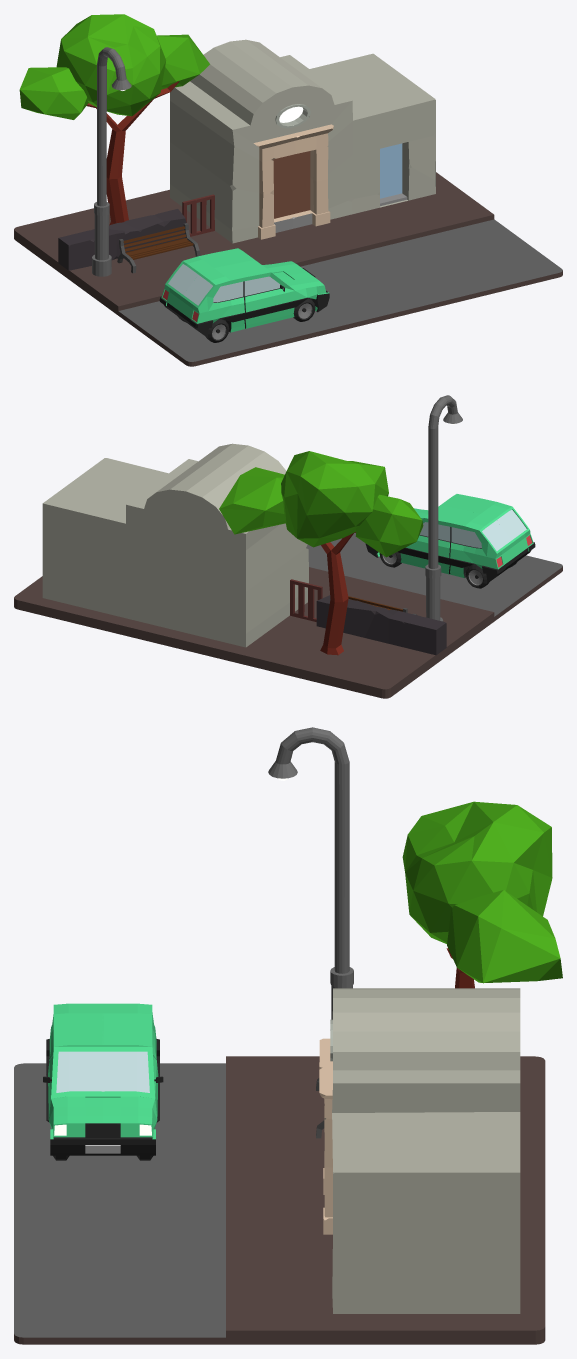
The model's file is chiesetta3.glb.
The picture shows the model from 3 angles, top to bottom: view 1: azimuth 30°, elevation 25°; view 2: azimuth 150°, elevation 25°; view 3: azimuth 270°, elevation 25°; orthographic projection. The views are drawn at different scales.
Parts seen in each view (by area): view 1: church, road, car, Icosphere.002, Cube, streetlight, Icosphere, tree trunk, Icosphere.001, bench; view 2: church, road, car, Icosphere.002, Cube, Icosphere.001, streetlight, Icosphere, tree trunk; view 3: road, church, car, Icosphere.002, Icosphere.001, streetlight.
Boxes of the visible parts, box(x1,y1,x2,y2) form: church: box(170, 39, 435, 243); road: box(14, 172, 562, 366); car: box(159, 248, 329, 342); Icosphere.002: box(56, 14, 165, 116); Cube: box(58, 194, 214, 270); streetlight: box(92, 47, 131, 276); Icosphere: box(19, 67, 88, 119); tree trunk: box(86, 81, 178, 225); Icosphere.001: box(157, 34, 209, 89); bench: box(117, 223, 200, 273); church: box(42, 443, 308, 647); road: box(14, 533, 562, 698); car: box(365, 494, 535, 588); Icosphere.002: box(281, 451, 388, 547); Cube: box(290, 579, 446, 655); Icosphere.001: box(219, 467, 285, 534); streetlight: box(425, 395, 462, 621); Icosphere: box(355, 494, 423, 557); tree trunk: box(320, 532, 355, 655); road: box(14, 1056, 545, 1344); church: box(319, 988, 520, 1313); car: box(43, 1003, 163, 1160); Icosphere.002: box(402, 801, 552, 943); Icosphere.001: box(447, 890, 562, 983); streetlight: box(268, 727, 353, 1019).
Size of the model in its own units: 14.32 by 8.43 by 11.7.
